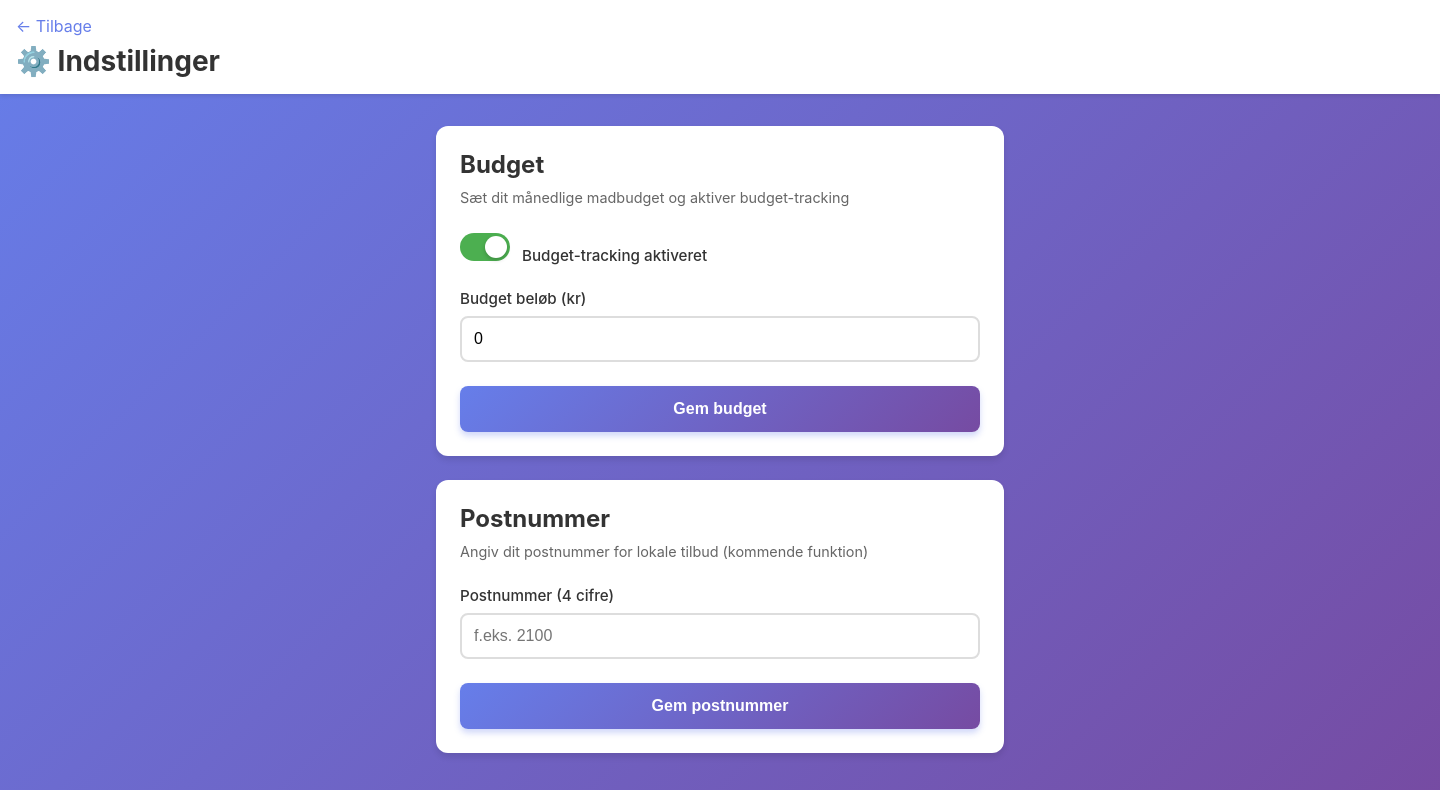
Test: Indstillinger Page › Budget Settings › validates budget input - negative number
The image size is (1440, 790).
Replace the text in the number field labelled "Budget beløb (kr)" with "-100": x=720, y=339 left=460, top=316, right=980, bottom=362
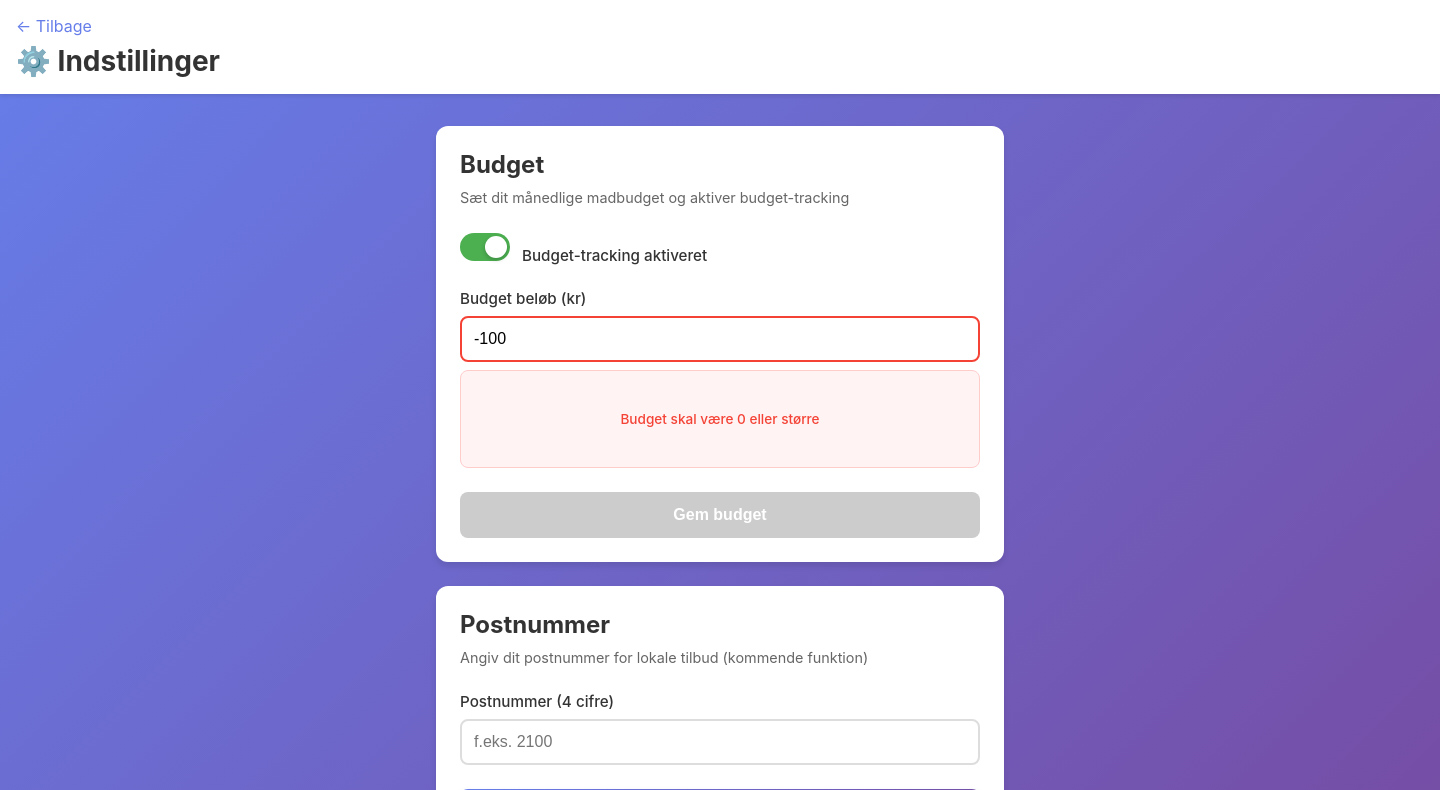
Expected: the text "Budget skal være 0 eller større" is shown, left=460, top=370, right=980, bottom=468
